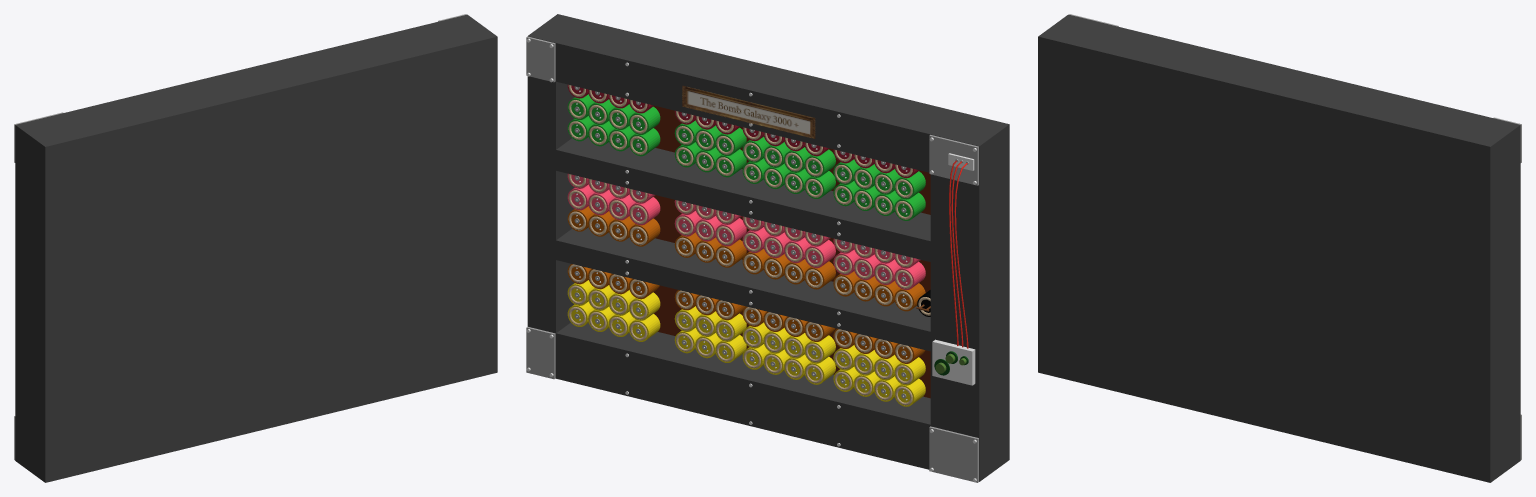
File: BombGalaxy3000+.fbx
The picture shows the model from 3 angles, left to right: view 1: azimuth 30°, elevation 25°; view 2: azimuth 150°, elevation 25°; view 3: azimuth 330°, elevation 25°; orthographic projection.
Visible parts, largest first — view 1: Maschine_Schrank; view 2: Maschine_Schrank, Namensschild, Ecke_unten_rechts, Ecke_oben_rechts, Ecke_unten_links, Schaltung_TM, Ecke_oben_links, Schraube; view 3: Maschine_Schrank.
Part boxes in pixels (bbox=[...]): Maschine_Schrank: bbox=[15, 14, 497, 482]; Maschine_Schrank: bbox=[527, 14, 1009, 481]; Namensschild: bbox=[682, 85, 815, 138]; Ecke_unten_rechts: bbox=[929, 426, 978, 482]; Ecke_oben_rechts: bbox=[929, 134, 978, 185]; Ecke_unten_links: bbox=[526, 326, 555, 379]; Schaltung_TM: bbox=[932, 339, 975, 385]; Ecke_oben_links: bbox=[526, 36, 555, 82]; Schraube: bbox=[526, 38, 976, 482]; Maschine_Schrank: bbox=[1038, 14, 1520, 482].
Bounding box in the file's own units: 2023 × 1436 × 314.
